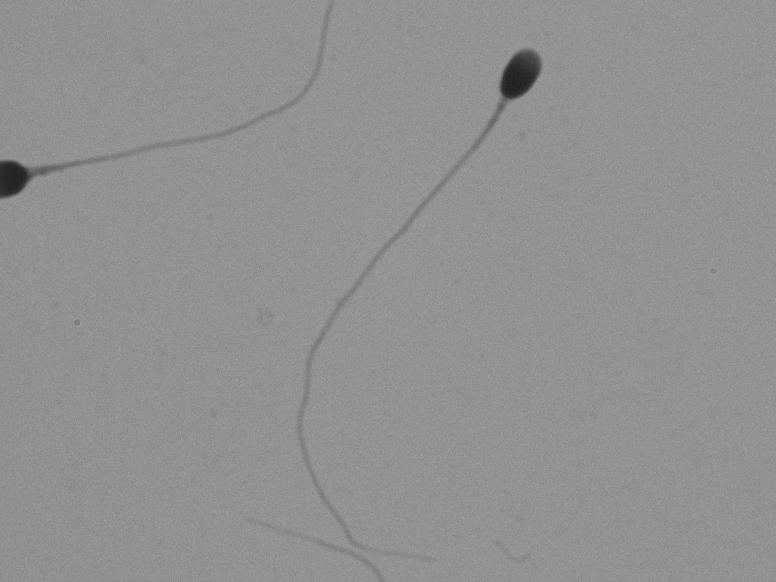Normal: (270, 40, 553, 564)
